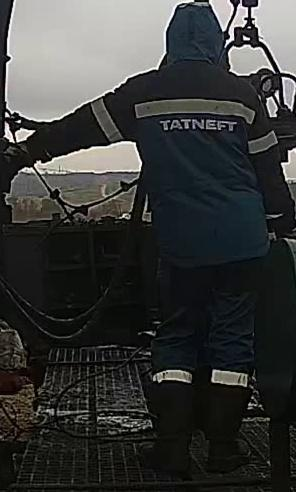gloves: (0, 136, 49, 193)
vest: (88, 62, 275, 266)
